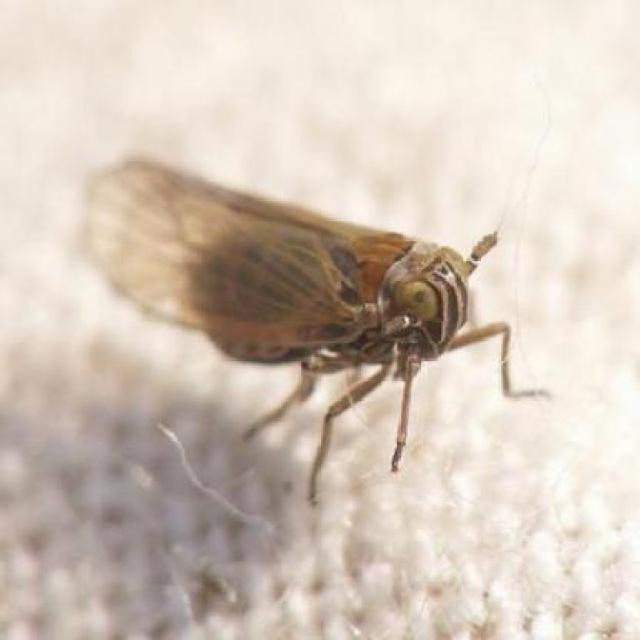brown-planthopper: (75, 152, 523, 426)
